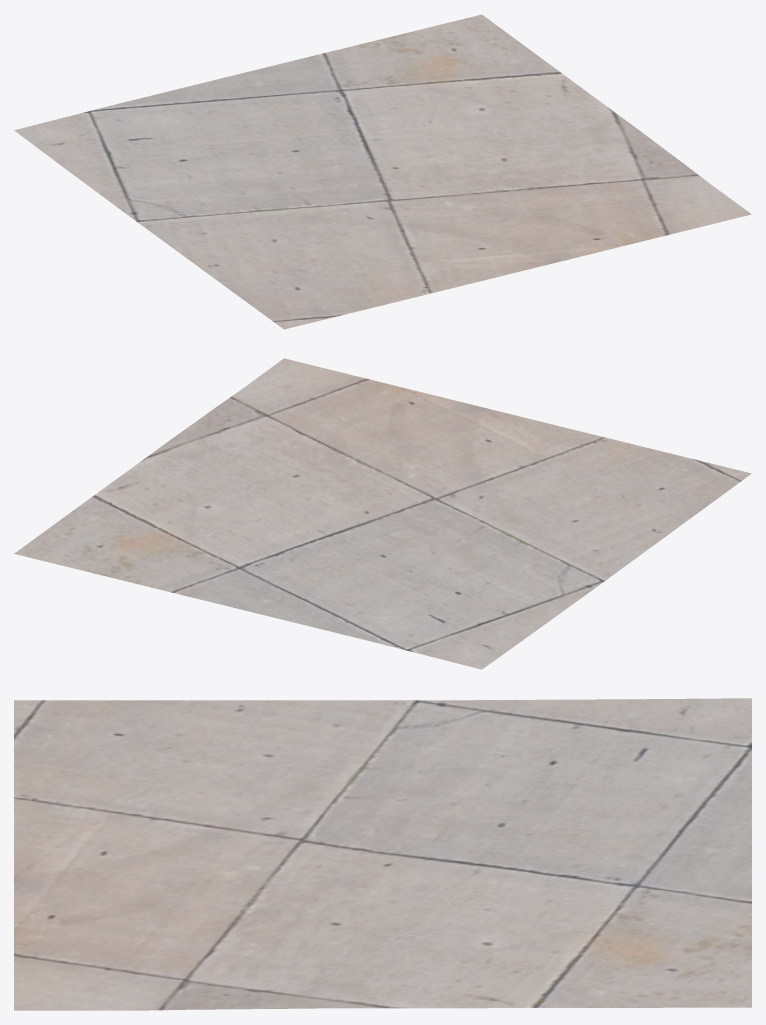
3 views of the same model, one above another, from view 1: azimuth 30°, elevation 25°; view 2: azimuth 150°, elevation 25°; view 3: azimuth 270°, elevation 25° (orthographic). The views are drawn at different scales.
Bounding box in the file's own units: 4.18 × 0.0284 × 4.18.
2 materials, 2 textured.
